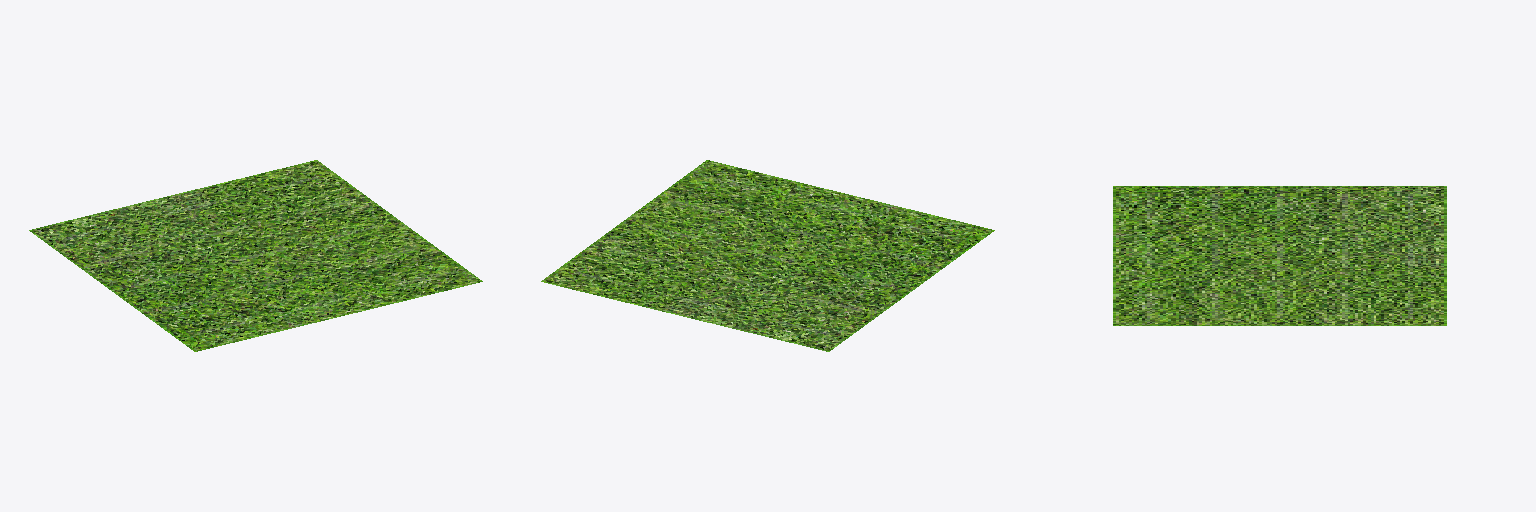
3 views of the same model, side by side, from view 1: azimuth 30°, elevation 25°; view 2: azimuth 150°, elevation 25°; view 3: azimuth 270°, elevation 25° (orthographic).
Parts seen in each view (by area): view 1: Cube; view 2: Cube; view 3: Cube.
Part boxes in pixels (left/top/right/bottom): Cube: left=29, top=160, right=482, bottom=351; Cube: left=541, top=160, right=994, bottom=351; Cube: left=1113, top=186, right=1446, bottom=325.
Size of the model in its own units: 1 by 0 by 1.
Materials: 1 (1 with a texture image).